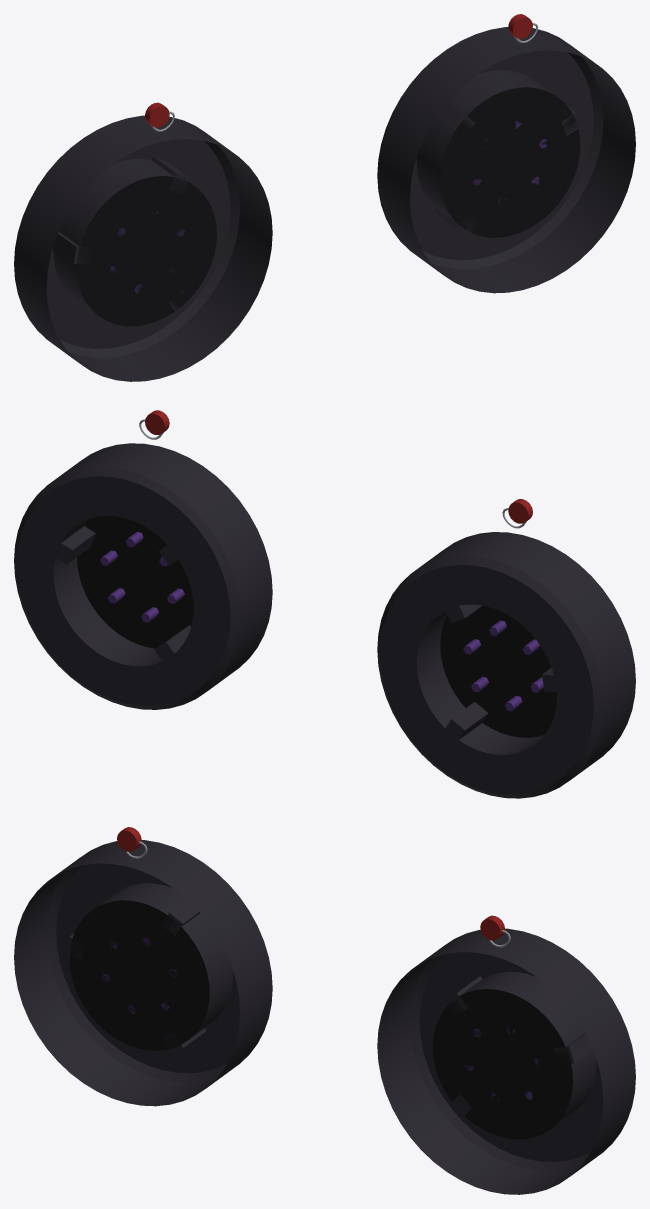
The model's file is z5_socket.obj.
The picture shows the model from 3 angles, top to bottom: view 1: azimuth 30°, elevation 25°; view 2: azimuth 150°, elevation 25°; view 3: azimuth 330°, elevation 25°; orthographic projection.
Parts seen in each view (by area): view 1: z5_socket; view 2: z5_socket; view 3: z5_socket.
Part boxes in pixels (x1,y1,x2,y2): z5_socket: (14, 14, 635, 381); z5_socket: (14, 410, 635, 798); z5_socket: (14, 827, 635, 1194).
Bounding box in the file's own units: 1.46 × 0.645 × 0.155.
